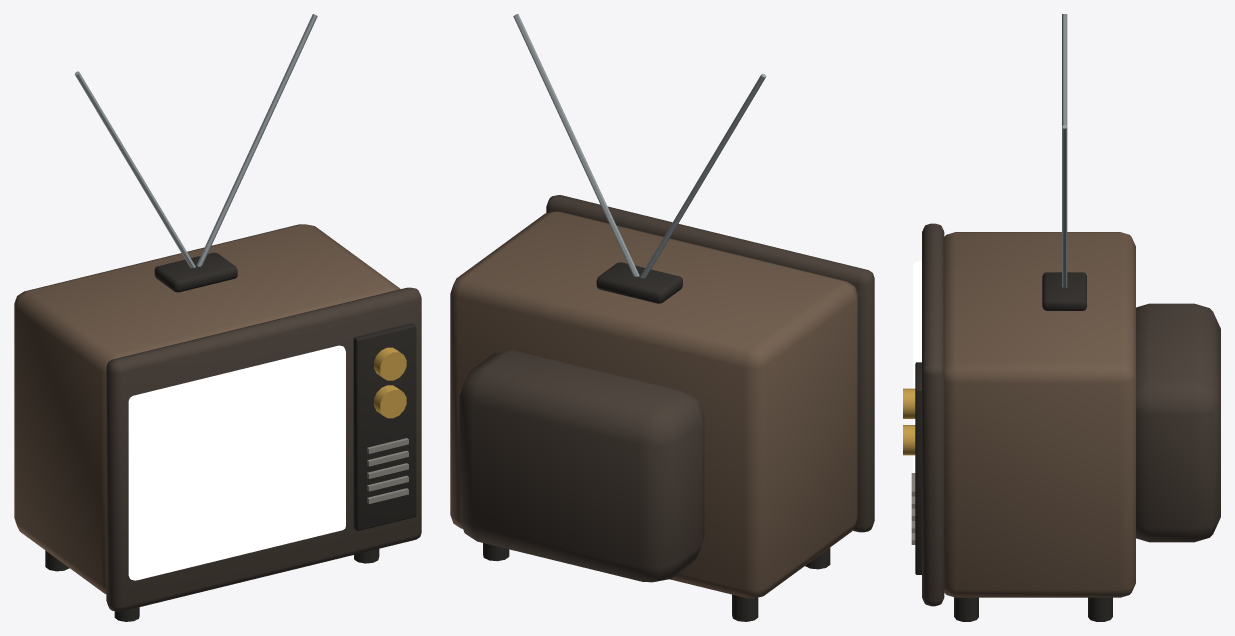
The picture shows the model from 3 angles, left to right: view 1: azimuth 30°, elevation 25°; view 2: azimuth 150°, elevation 25°; view 3: azimuth 270°, elevation 25°; orthographic projection. The views are drawn at different scales.
Visible parts, largest first — view 1: body, screen; view 2: body; view 3: body, screen.
Boxes of the visible parts, <box> form: body: <box>14,14,421,621</box>; screen: <box>128,345,345,580</box>; body: <box>450,14,874,621</box>; body: <box>903,14,1220,621</box>; screen: <box>913,261,921,472</box>.
Size of the model in its own units: 0.78 by 1.21 by 0.7125.
